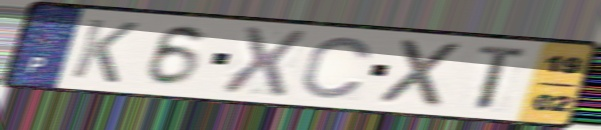6: (141, 24, 211, 89)
C: (297, 34, 377, 101)
K: (66, 16, 143, 86)
T: (474, 42, 534, 113)
X: (216, 24, 311, 99), (377, 36, 470, 110)
